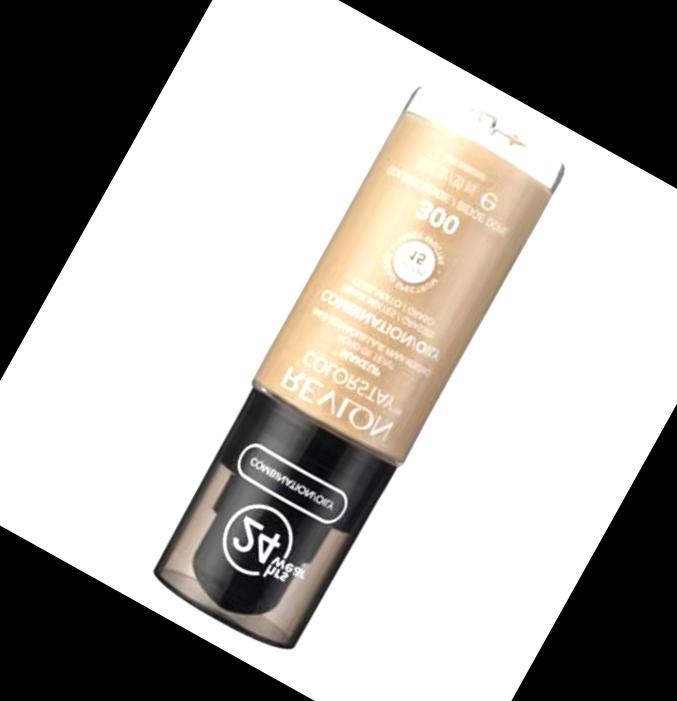cosmetic: (141, 82, 571, 663)
